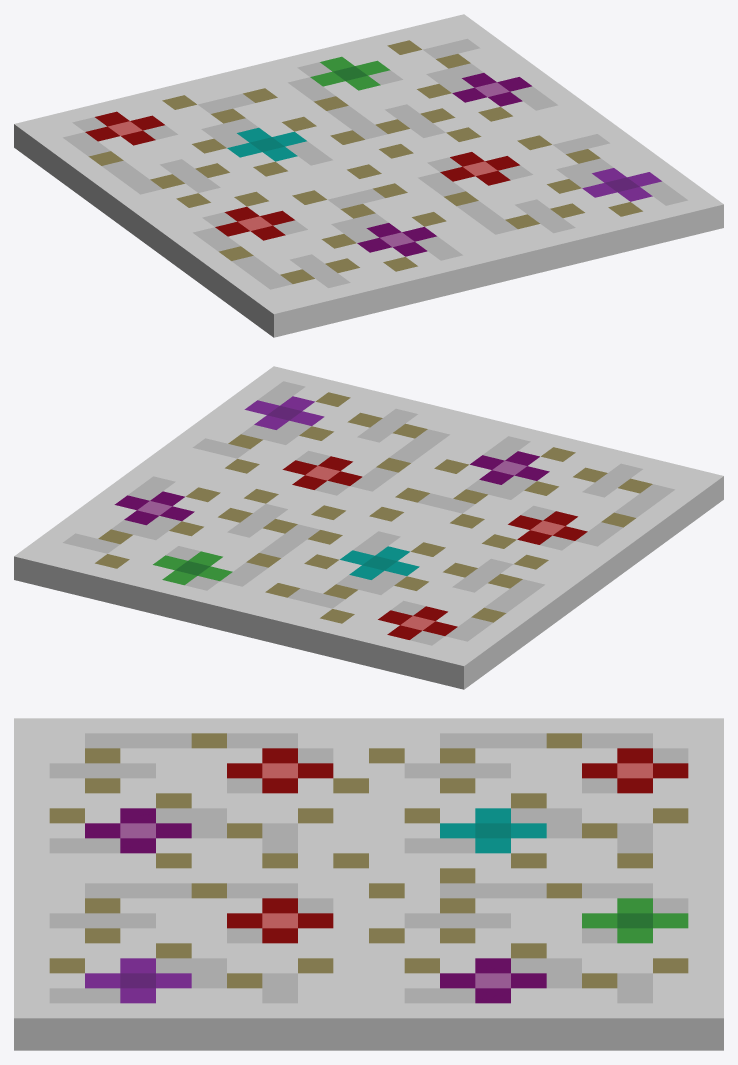
Rendered from BlocksAndFloors-27.obj.
The picture shows the model from 3 angles, top to bottom: view 1: azimuth 30°, elevation 25°; view 2: azimuth 150°, elevation 25°; view 3: azimuth 270°, elevation 25°; orthographic projection. The views are drawn at different scales.
Size of the model in its own units: 2 by 0.1 by 2.
1 material, 1 textured.
